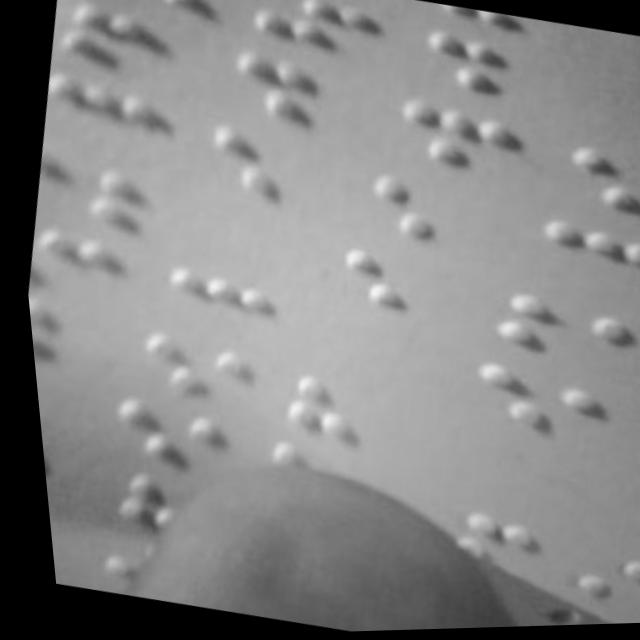braiile: (398, 22, 561, 118), (210, 47, 370, 142), (185, 122, 345, 217), (263, 363, 415, 462), (457, 360, 602, 462), (381, 92, 527, 190), (485, 290, 636, 384), (44, 0, 198, 91), (110, 323, 255, 416), (92, 391, 237, 483), (319, 244, 465, 333), (35, 71, 174, 162), (352, 168, 491, 256), (143, 259, 278, 346), (524, 215, 640, 313), (25, 144, 146, 237), (236, 0, 384, 67), (17, 216, 121, 302), (549, 142, 640, 231), (419, 0, 567, 49), (22, 292, 91, 373), (32, 422, 54, 485)
